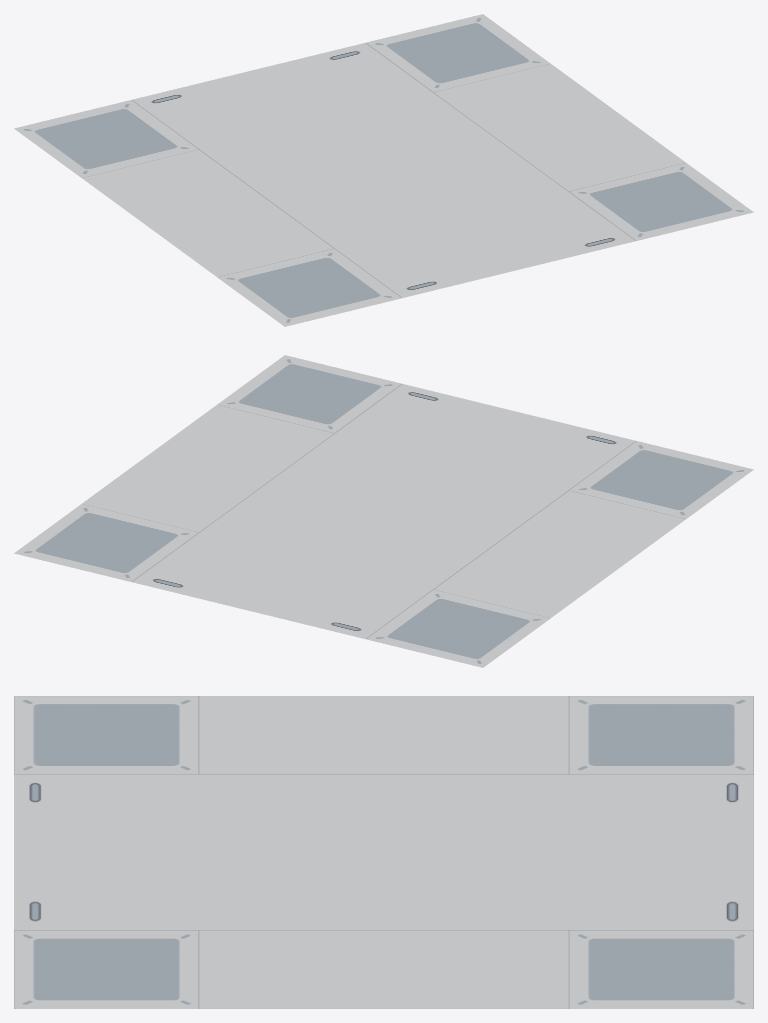
Rendered from Floor_07_B.FBX.
The picture shows the model from 3 angles, top to bottom: view 1: azimuth 30°, elevation 25°; view 2: azimuth 150°, elevation 25°; view 3: azimuth 270°, elevation 25°; orthographic projection. The views are drawn at different scales.
Visible parts, largest first — view 1: Floor_07_B; view 2: Floor_07_B; view 3: Floor_07_B.
Part boxes in pixels (x1,y1,x2,y2): Floor_07_B: (14, 14, 753, 326); Floor_07_B: (14, 355, 753, 667); Floor_07_B: (14, 696, 753, 1008).
Bounding box in the file's own units: 6 × 2.62e-07 × 6.
Materials: 2 (2 with a texture image).
